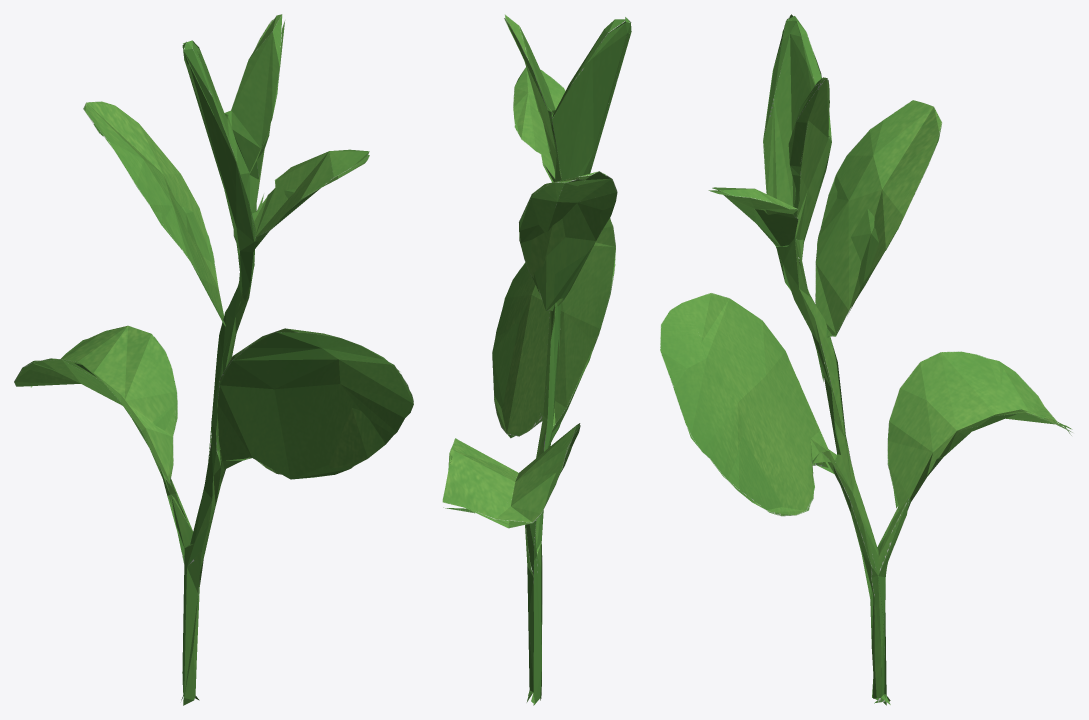
Rendered from Plant_3_Fixed.glb.
3 views of the same model, side by side, from view 1: azimuth 30°, elevation 25°; view 2: azimuth 150°, elevation 25°; view 3: azimuth 270°, elevation 25° (orthographic). The views are drawn at different scales.
Visible parts, largest first — view 1: geometry_0.007; view 2: geometry_0.007; view 3: geometry_0.007.
Boxes of the visible parts, x1=… form: geometry_0.007: x1=14, y1=14, x2=413, y2=705; geometry_0.007: x1=442, y1=14, x2=631, y2=705; geometry_0.007: x1=660, y1=14, x2=1072, y2=705.
Bounding box in the file's own units: 0.0711 × 0.2184 × 0.1225.
1 material, 1 textured.
